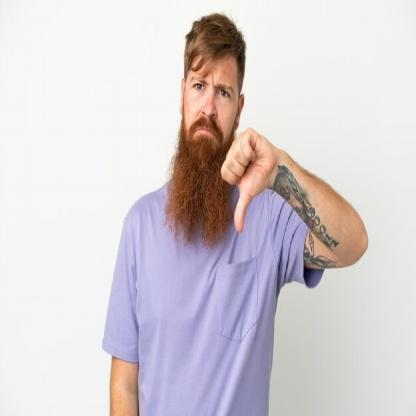thumb_down: (217, 124, 279, 236)
